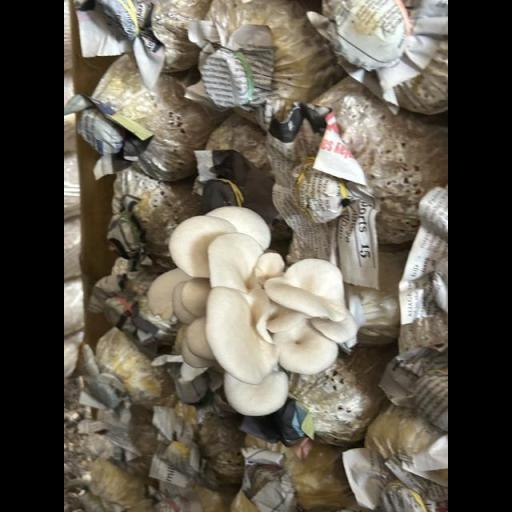White Oyster Mushroom: (152, 204, 357, 418)
